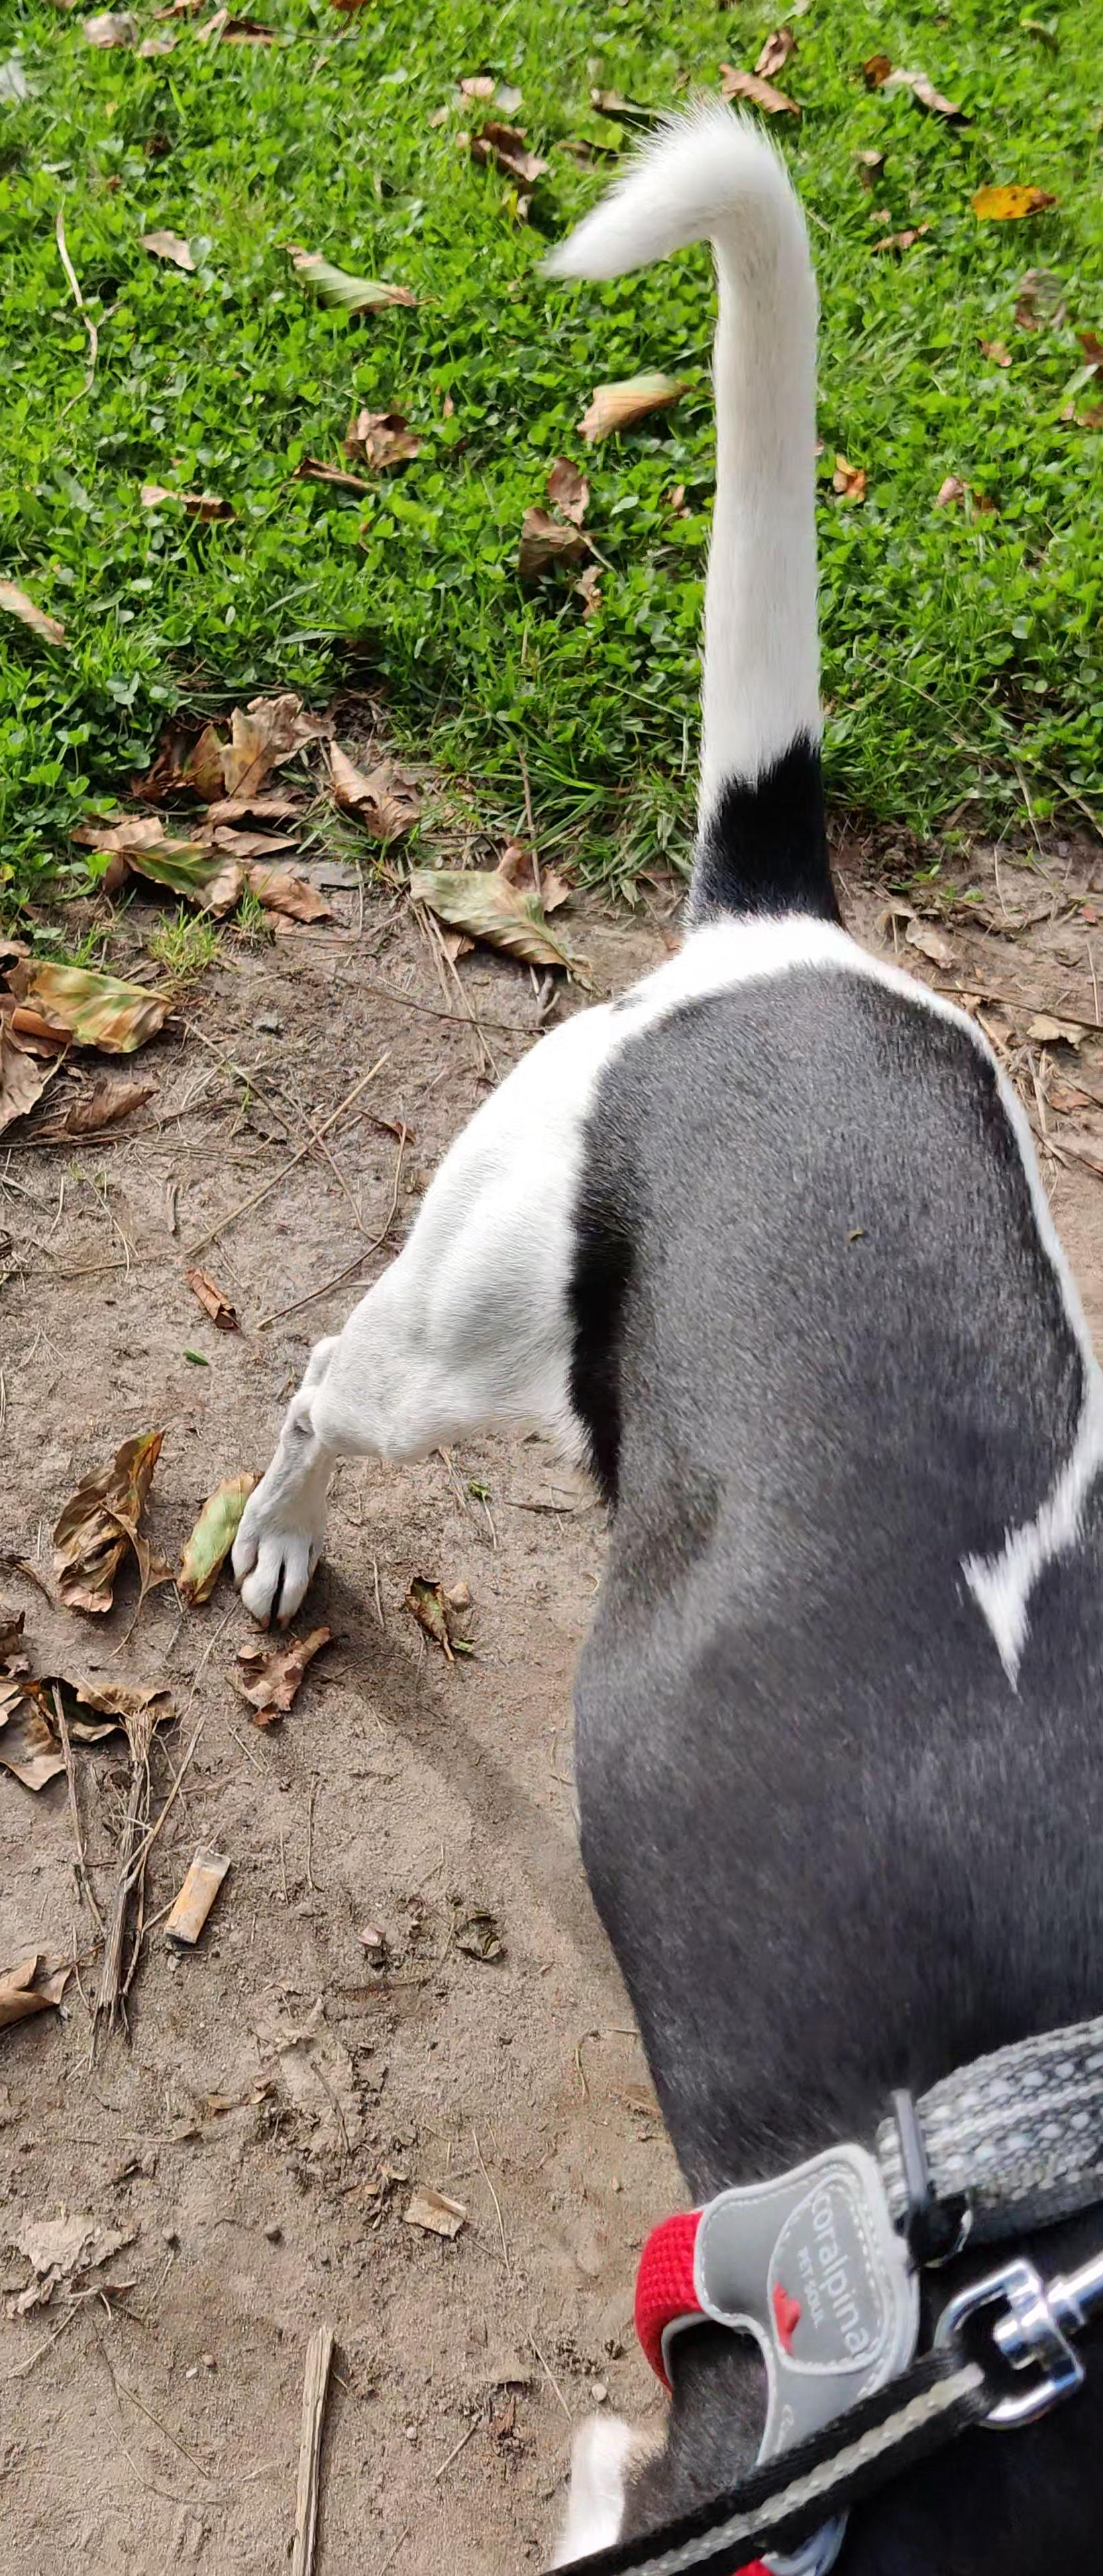Dog: (215, 82, 1103, 2576)
